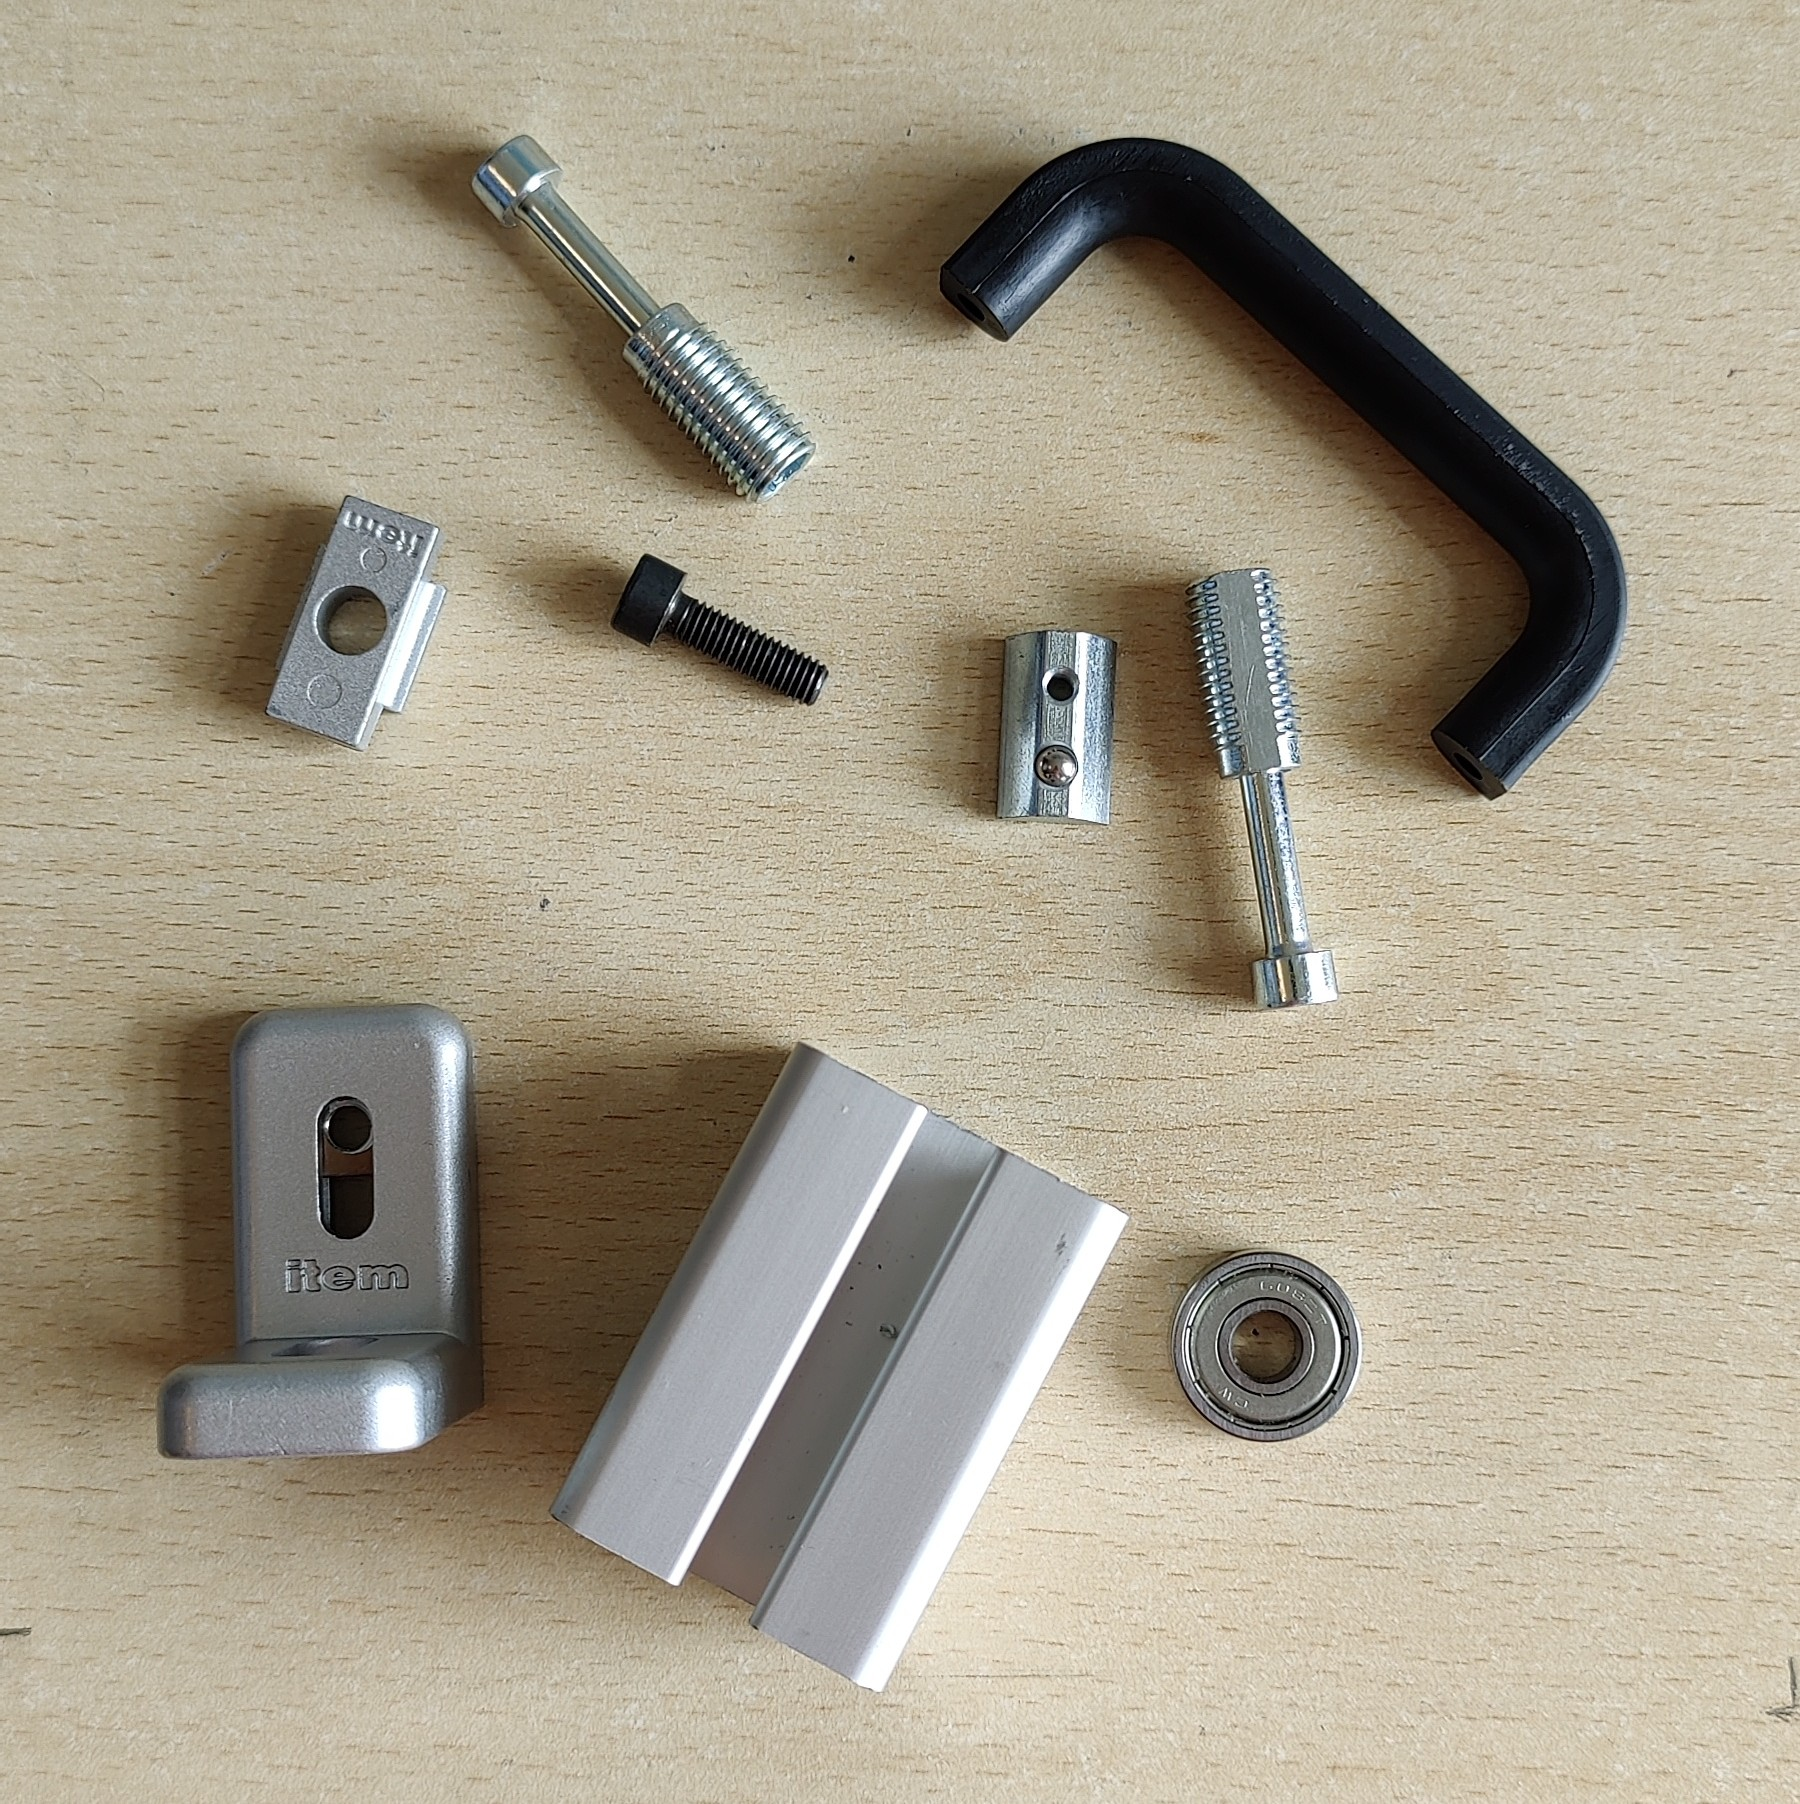Aluminium Extension: (546, 1036, 1136, 1697)
Ball Bearing: (1164, 1243, 1363, 1448)
Multiwinkel: (153, 999, 493, 1464)
Pull Handle: (935, 134, 1630, 808)
Shoulder Socket Head Cap Screw: (466, 129, 823, 506), (1182, 562, 1343, 1016)
Socket Head Cap Screw: (605, 547, 832, 711)
T Nut Square: (259, 488, 448, 755)
T Spring Nut: (992, 625, 1123, 833)
